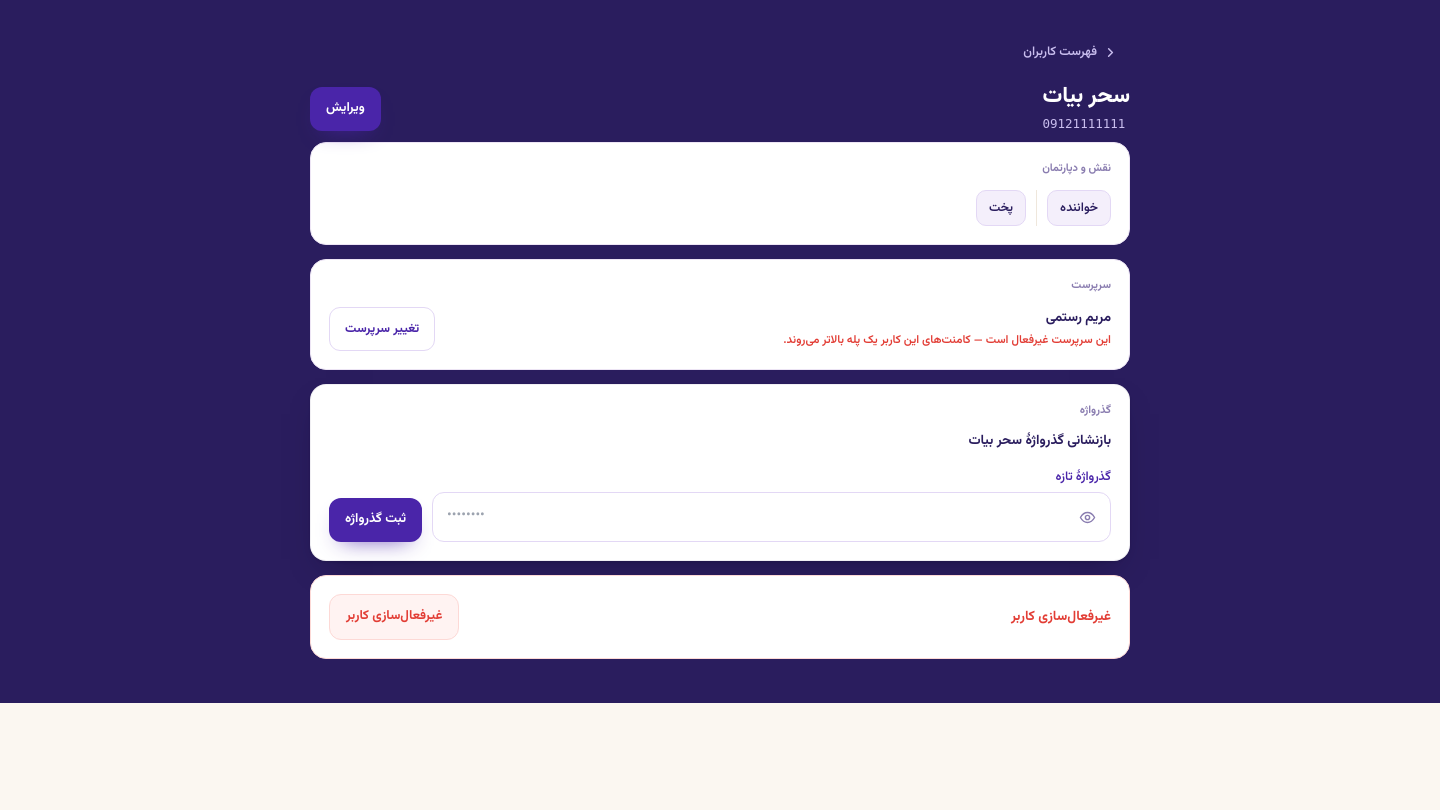
Scenario: the supervisor picker on the edit form › names this very user as an exclusion, so nobody is offered themselves
Click the button "ویرایش": [345, 109] box [310,87,381,131]
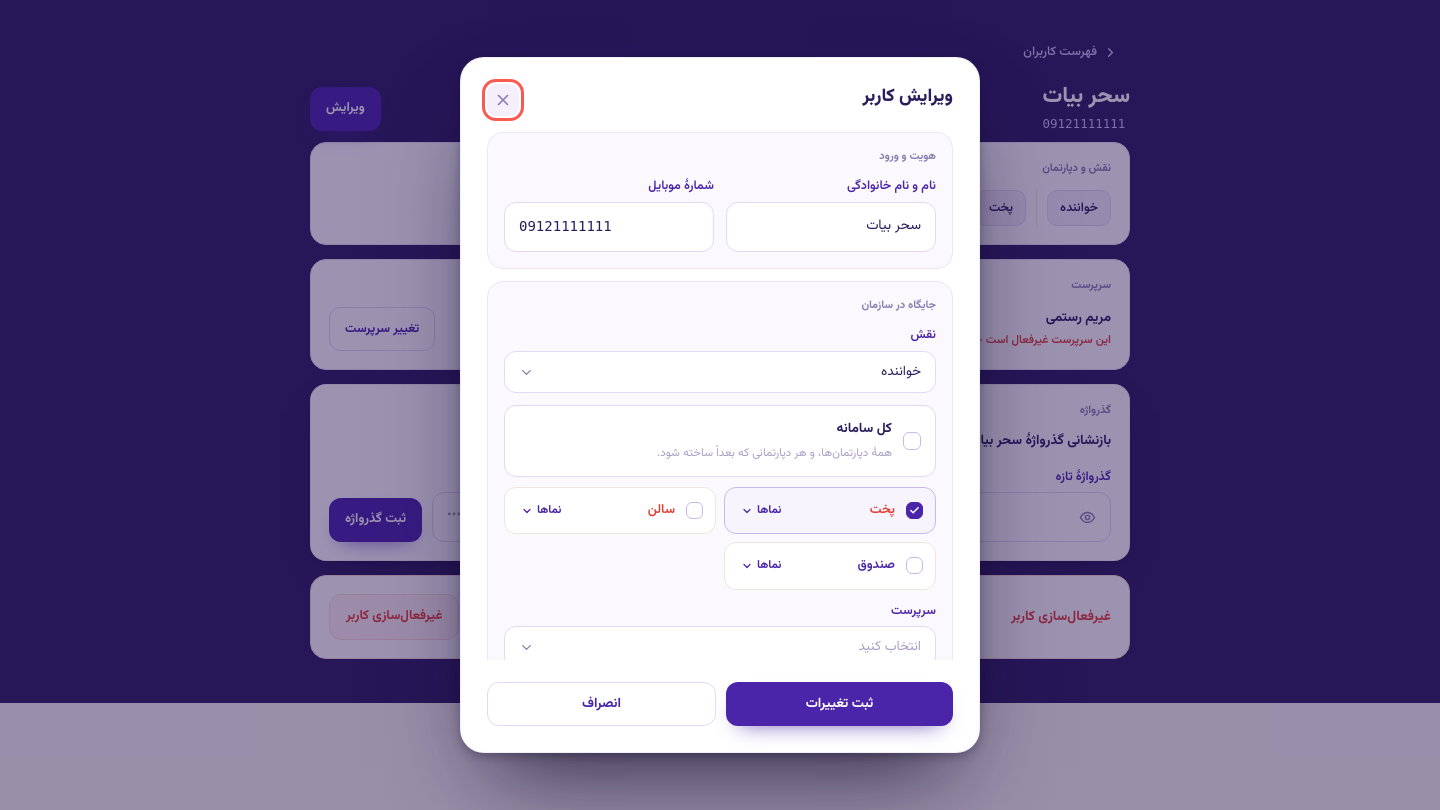
Now the dialog is shown, box [460,57,980,753]
Now the checkbox labelled "سالن" is shown, box [504,487,716,534]
